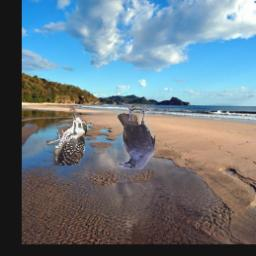Crow: (118, 105, 156, 170)
Woodpecker: (47, 107, 88, 166)
